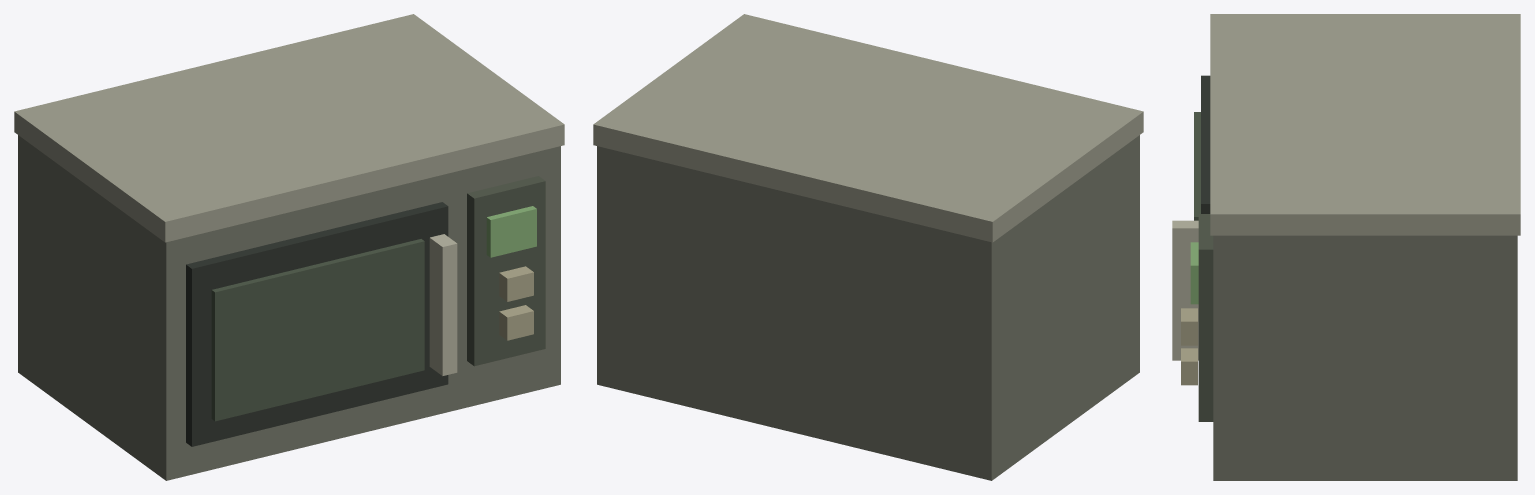
Rendered from CMU3DMicrowave.glb.
3 views of the same model, side by side, from view 1: azimuth 30°, elevation 25°; view 2: azimuth 150°, elevation 25°; view 3: azimuth 270°, elevation 25° (orthographic). The views are drawn at different scales.
Parts seen in each view (by area): view 1: top, microwave shell, door glass, door, control bay, handle, green timer, control button (×2); view 2: microwave shell, top; view 3: microwave shell, top, control bay, handle, door, control button (×2), door glass, green timer.
Boxes of the visible parts, x1,y1,x2,y2 form: top: (14,14,564,242); microwave shell: (18,135,560,480); door glass: (211,239,424,421); door: (186,202,448,446); control bay: (467,176,545,366); handle: (429,234,457,375); green timer: (486,206,536,257); control button (×2): (499,266,533,340); microwave shell: (597,135,1139,480); top: (593,14,1143,242); microwave shell: (1213,235,1517,480); top: (1210,14,1520,235); control bay: (1198,214,1213,421); handle: (1172,220,1198,360); door: (1201,75,1210,213); control button (×2): (1181,308,1197,385); door glass: (1194,112,1200,220); green timer: (1190,242,1198,304).
Size of the model in its own units: 0.81 by 0.505 by 0.595.
